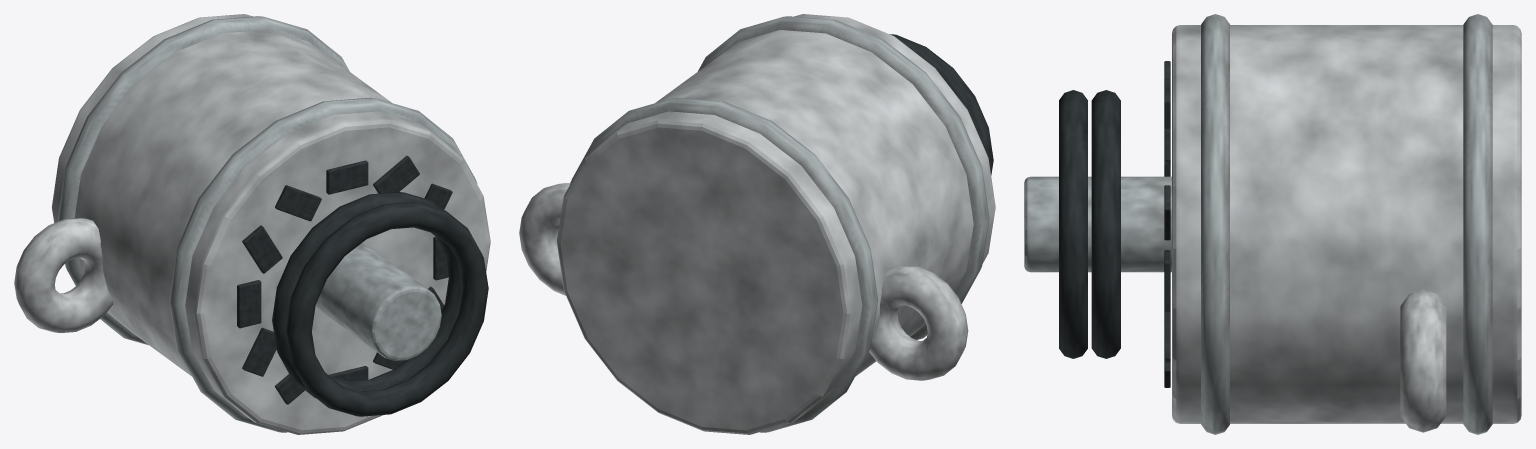
The model's file is GR_Alternator_04.glb.
The picture shows the model from 3 angles, left to right: view 1: azimuth 30°, elevation 25°; view 2: azimuth 150°, elevation 25°; view 3: azimuth 270°, elevation 25°; orthographic projection. The views are drawn at different scales.
Parts seen in each view (by area): view 1: Static; view 2: Static; view 3: Static.
Boxes of the visible parts, box(x1,y1,x2,y2) form: Static: box(14, 14, 490, 434); Static: box(519, 14, 995, 434); Static: box(1024, 14, 1521, 434).
Bounding box in the file's own units: 0.276 × 0.194 × 0.2275.
Materials: 1 (1 with a texture image).
